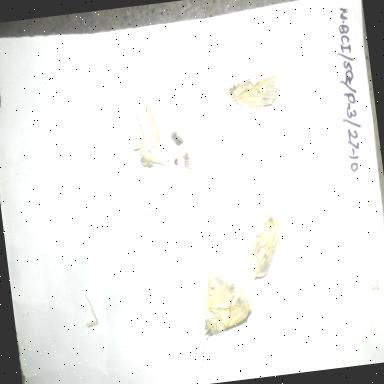abw: (174, 261, 260, 372), (124, 91, 199, 182), (216, 60, 290, 120), (234, 209, 290, 284)
